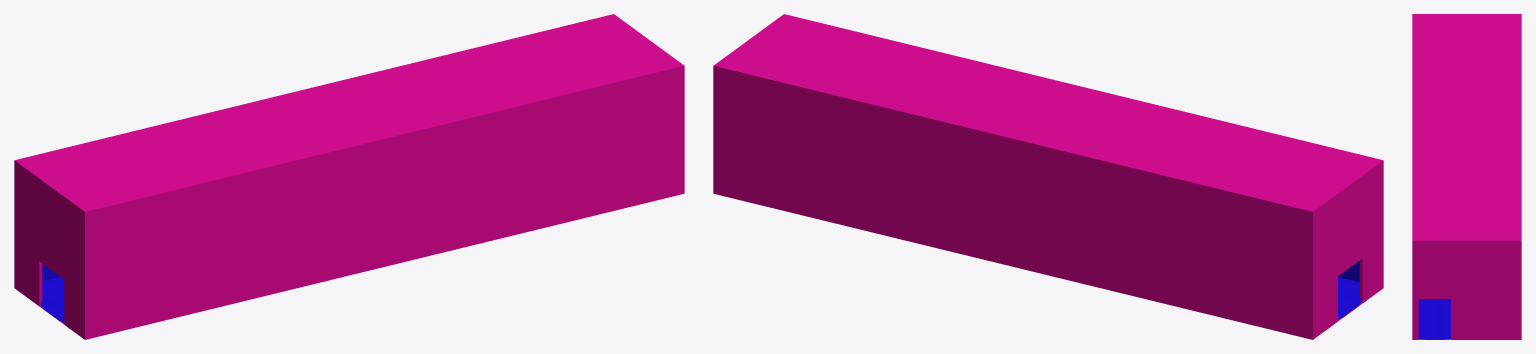
File: Tunnel.fbx
The picture shows the model from 3 angles, left to right: view 1: azimuth 30°, elevation 25°; view 2: azimuth 150°, elevation 25°; view 3: azimuth 270°, elevation 25°; orthographic projection. The views are drawn at different scales.
Visible parts, largest first — view 1: House; view 2: House; view 3: House.
Part boxes in pixels (x1,y1,x2,y2): House: (14,14,684,339); House: (713,14,1383,339); House: (1412,14,1521,339).
Bounding box in the file's own units: 3920 × 800 × 800.
